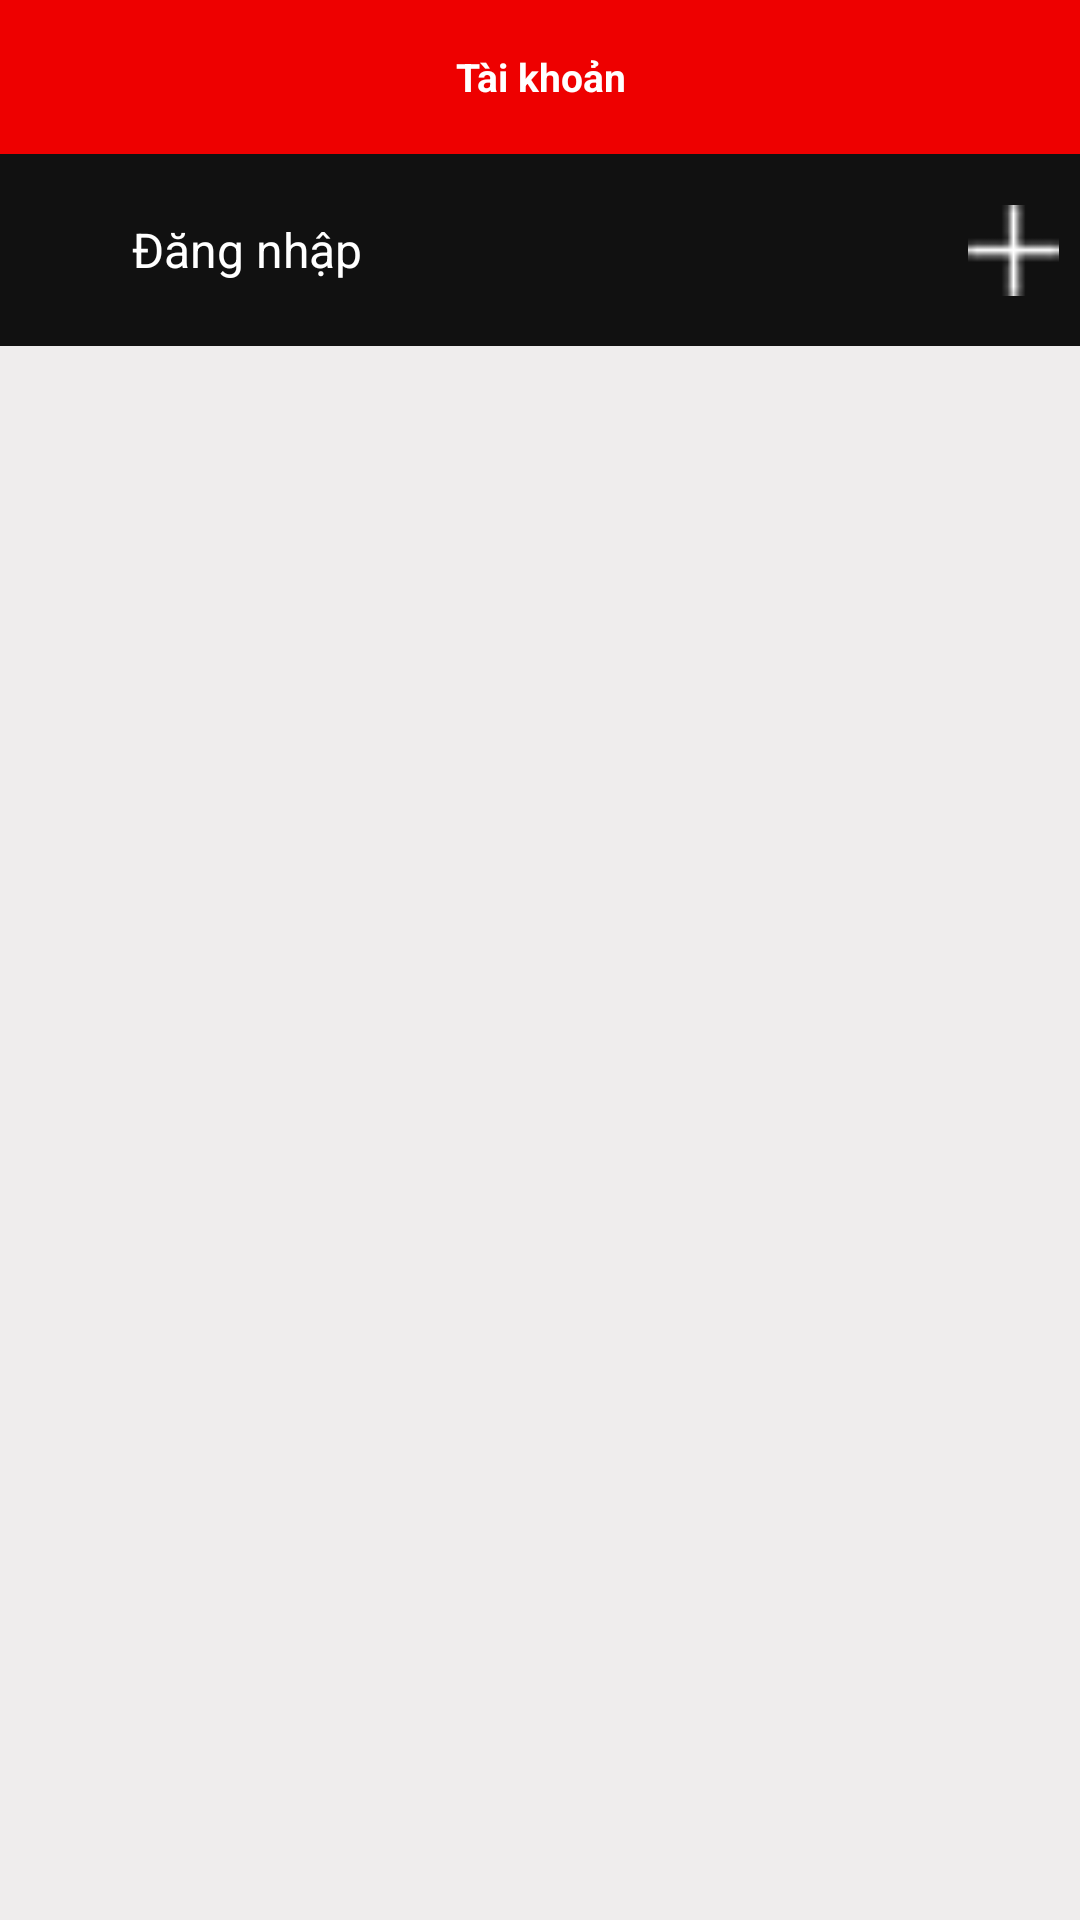

Named icons in this screenshot (1080x1920) and their centers, point (x, y):
iconcong: point (1013, 250)
